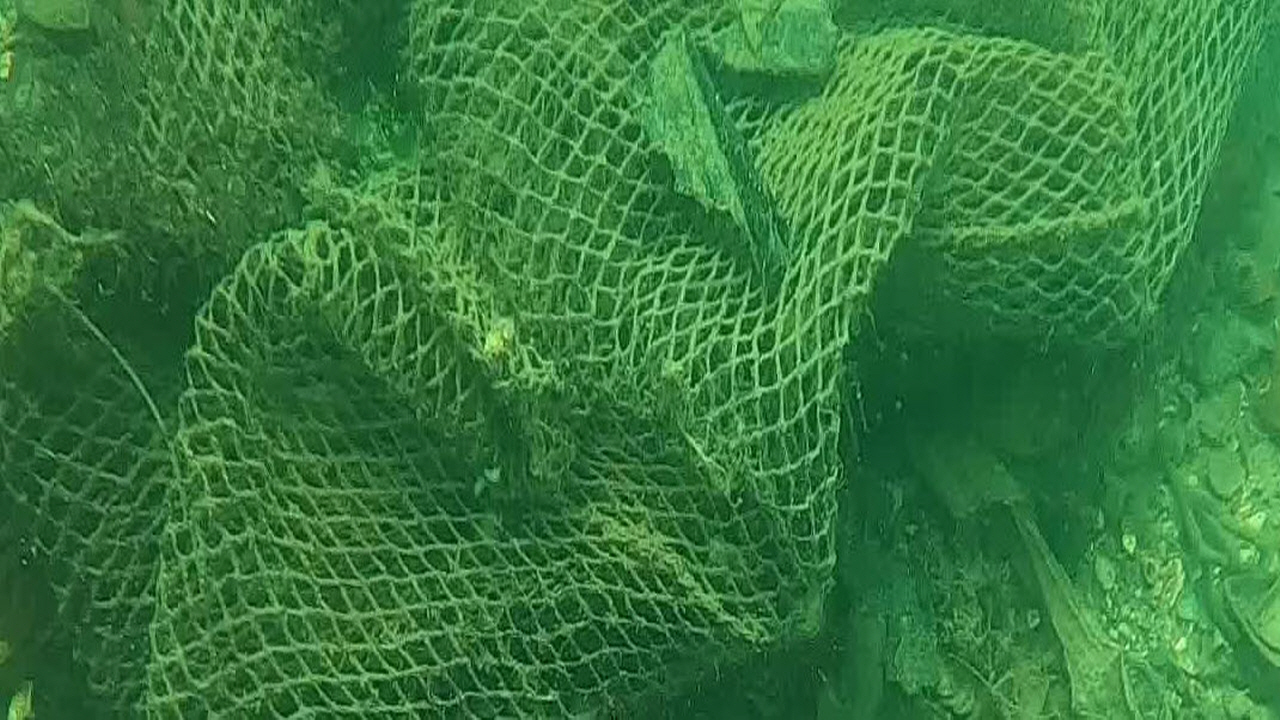fish net: (0, 0, 1279, 720)
